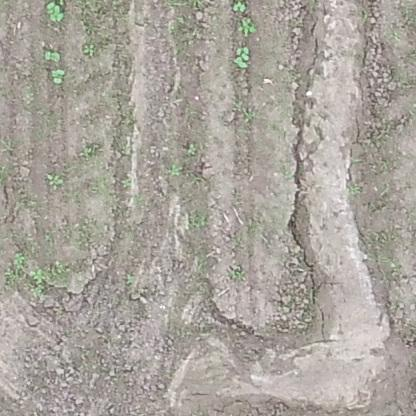vc: (234, 46, 253, 69), (46, 1, 64, 23), (50, 68, 66, 83), (45, 48, 60, 61), (232, 2, 248, 12)
